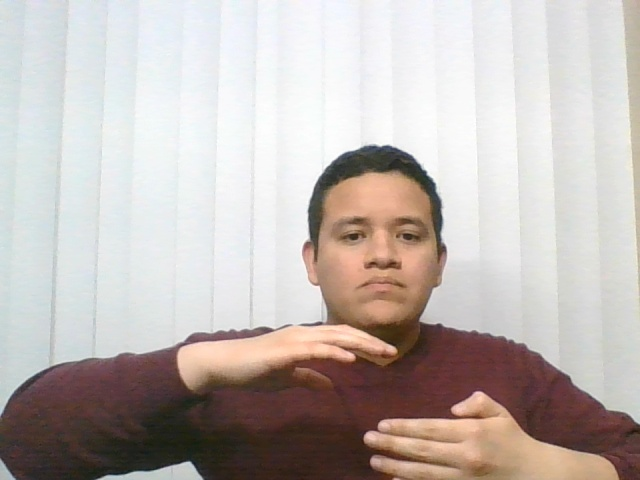To Study: (150, 283, 584, 480)
